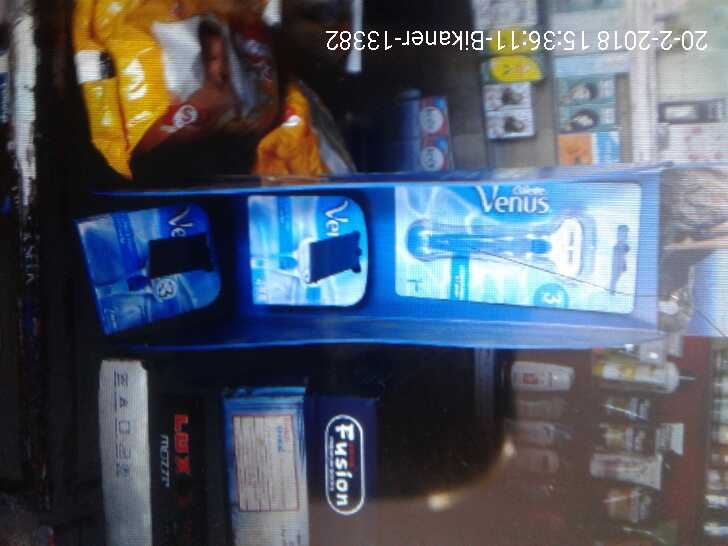venus: (395, 181, 642, 319), (76, 200, 222, 335), (246, 193, 376, 312)
